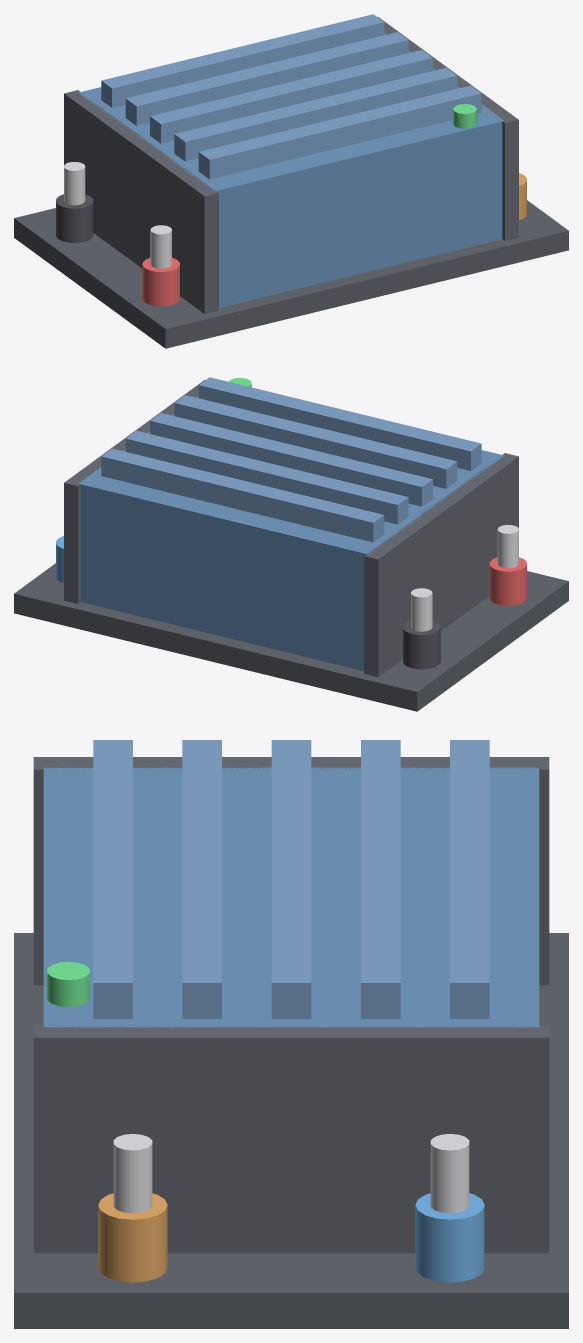
The model's file is inversor_dc_ac.glb.
The picture shows the model from 3 angles, top to bottom: view 1: azimuth 30°, elevation 25°; view 2: azimuth 150°, elevation 25°; view 3: azimuth 270°, elevation 25°; orthographic projection. The views are drawn at different scales.
Visible parts, largest first — view 1: CarcasaInversor, AletasDisipacion, BasePatas, FrenteIzquierdoDC, FrenteDerechoAC, Borne_IN_Pos_Collar, Borne_IN_Neg_Collar, Borne_IN_Pos, Borne_IN_Neg, LedEstado; view 2: CarcasaInversor, AletasDisipacion, BasePatas, FrenteIzquierdoDC, FrenteDerechoAC, Borne_IN_Neg_Collar, Borne_IN_Pos_Collar, Borne_IN_Neg, Borne_IN_Pos; view 3: FrenteDerechoAC, CarcasaInversor, AletasDisipacion, BasePatas, FrenteIzquierdoDC, Borne_Fase_Collar, Borne_Neutro_Collar, Borne_Fase, Borne_Neutro, LedEstado.
Boxes of the visible parts, left/top/right/bottom form: CarcasaInversor: left=78, top=33, right=504, bottom=307; AletasDisipacion: left=101, top=14, right=481, bottom=179; BasePatas: left=14, top=200, right=568, bottom=348; FrenteIzquierdoDC: left=64, top=90, right=218, bottom=313; FrenteDerechoAC: left=377, top=17, right=518, bottom=240; Borne_IN_Pos_Collar: left=142, top=257, right=179, bottom=306; Borne_IN_Neg_Collar: left=56, top=194, right=93, bottom=242; Borne_IN_Pos: left=150, top=225, right=171, bottom=268; Borne_IN_Neg: left=64, top=162, right=85, bottom=205; LedEstado: left=453, top=104, right=476, bottom=128; CarcasaInversor: left=78, top=396, right=504, bottom=670; AletasDisipacion: left=101, top=377, right=481, bottom=542; BasePatas: left=14, top=563, right=568, bottom=711; FrenteIzquierdoDC: left=364, top=453, right=518, bottom=676; FrenteDerechoAC: left=64, top=380, right=205, bottom=603; Borne_IN_Neg_Collar: left=403, top=620, right=440, bottom=669; Borne_IN_Pos_Collar: left=489, top=557, right=526, bottom=605; Borne_IN_Neg: left=411, top=588, right=432, bottom=631; Borne_IN_Pos: left=497, top=525, right=518, bottom=568; FrenteDerechoAC: left=33, top=1025, right=549, bottom=1253; CarcasaInversor: left=43, top=767, right=539, bottom=1027; AletasDisipacion: left=93, top=740, right=489, bottom=1018; BasePatas: left=14, top=933, right=568, bottom=1328; FrenteIzquierdoDC: left=33, top=757, right=549, bottom=985; Borne_Fase_Collar: left=98, top=1193, right=167, bottom=1282; Borne_Neutro_Collar: left=415, top=1193, right=484, bottom=1282; Borne_Fase: left=113, top=1134, right=152, bottom=1213; Borne_Neutro: left=430, top=1134, right=469, bottom=1213; LedEstado: left=47, top=961, right=89, bottom=1006.
Size of the model in its own units: 0.86 by 0.32 by 0.56.
